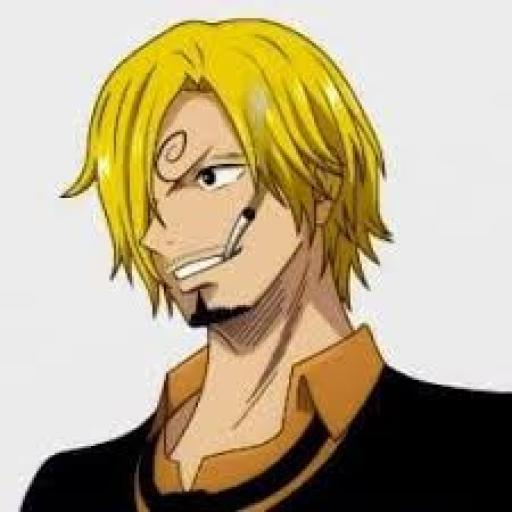sanji: (36, 9, 512, 511)
